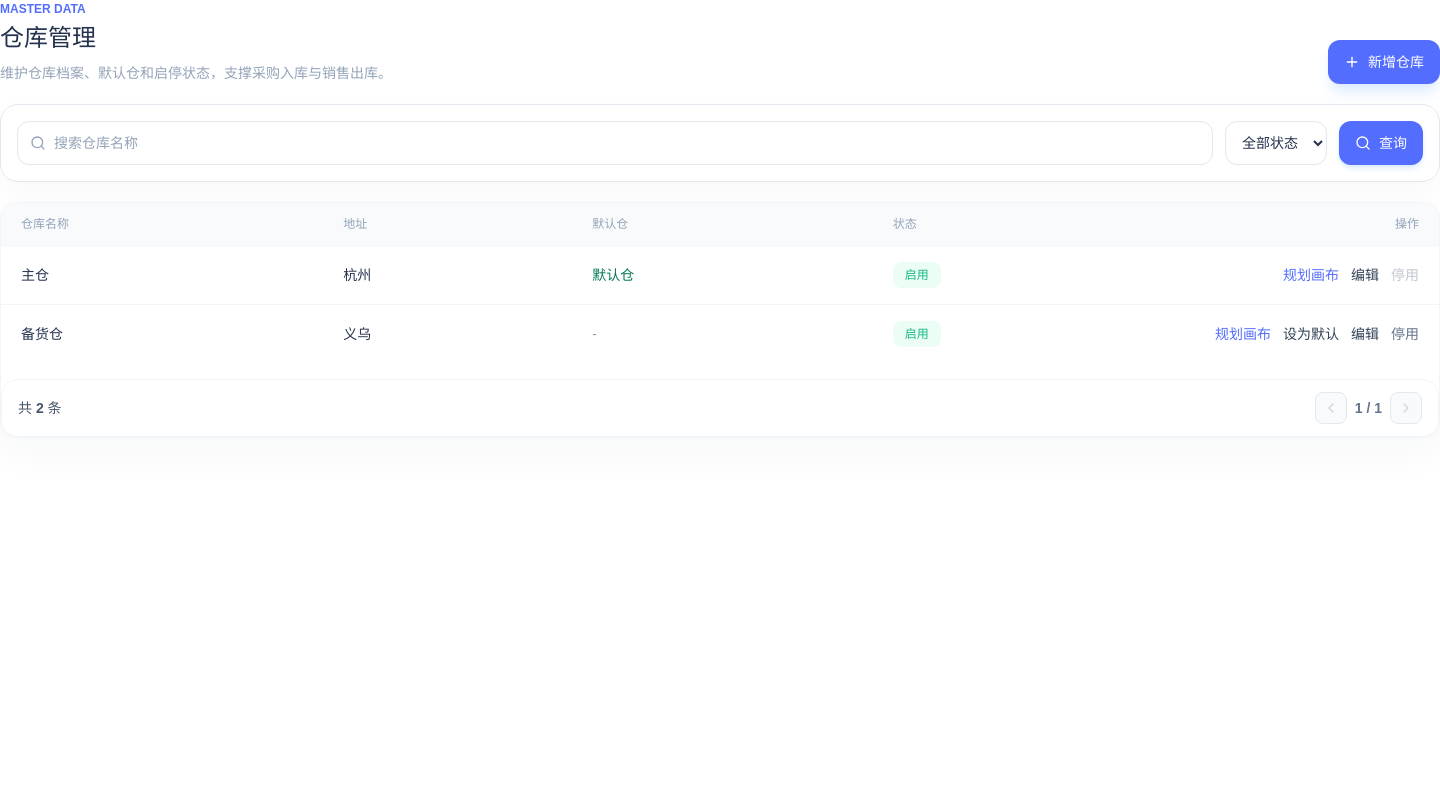
Test case: masterdata views › opens a right-side drawer for the small warehouse form
The image size is (1440, 810).
Click the button with test id "add-warehouse" at (1384, 62), box top-left (1328, 40), bottom-right (1439, 84)
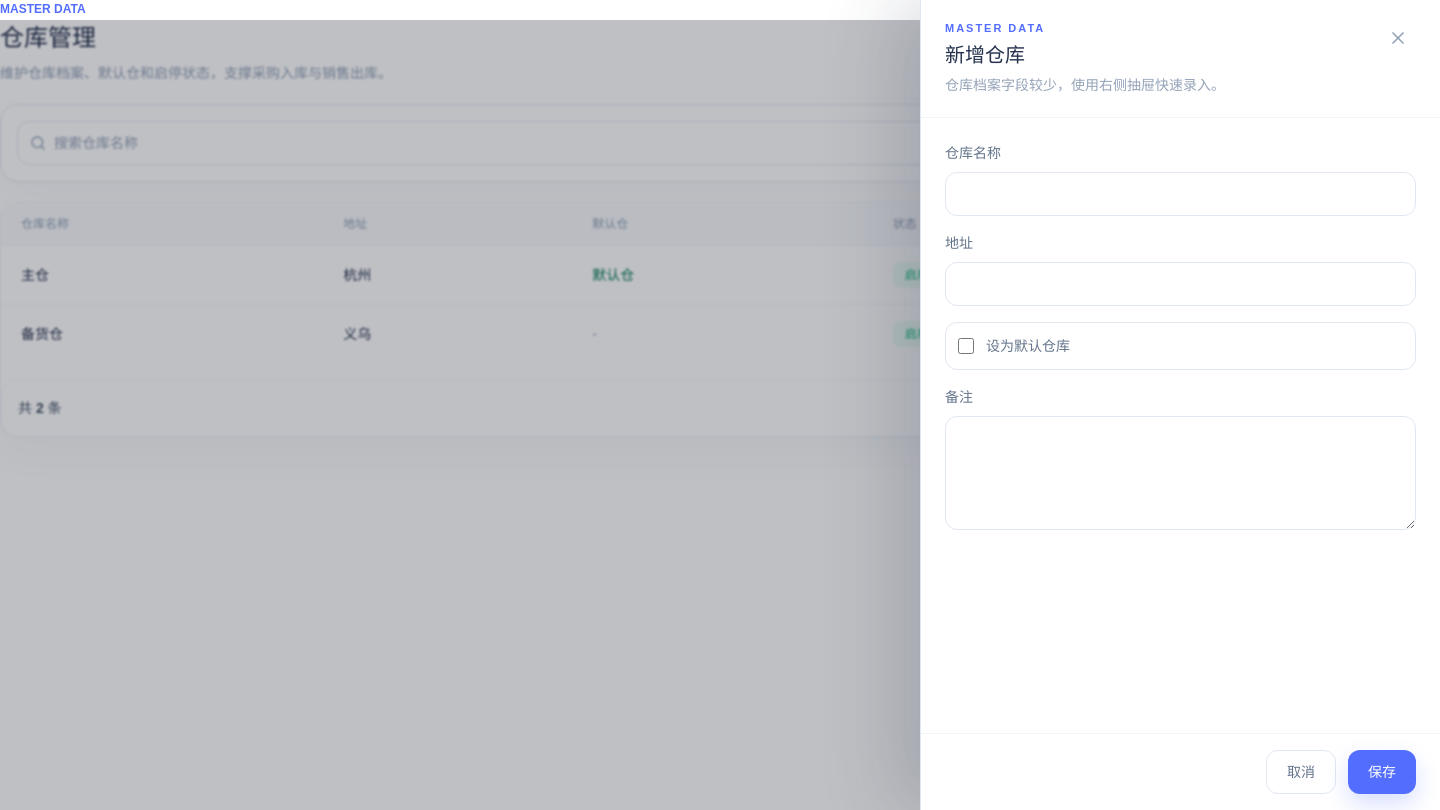
Now the element with test id "masterdata-drawer" shows "新增仓库", box top-left (945, 44), bottom-right (1025, 66)
